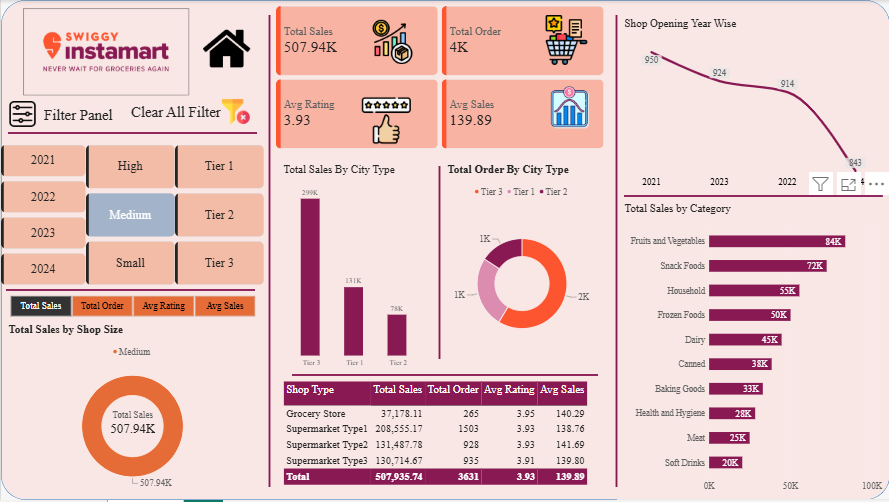

This screenshot's page, from the dashboard's own definition file:
{"tool":"powerbi","page":{"name":"Page 1","canvas":[1920,1080],"ordinal":0},"visuals":[{"type":"shape","box":[0,0,1920.2,1080],"z":0},{"type":"image","box":[47.5,13,358.6,198.7],"z":1000},{"type":"cardVisual","fields":{"Data":["Grocery Shop.Total Sales","Grocery Shop.Total Order","Grocery Shop.Avg Rating","Grocery Shop.Avg Sales"]},"box":[594,13,708.5,308.9],"z":2000},{"type":"donutChart","title":"Total Order By City Type","fields":{"Y":["Grocery Shop.Total Order"],"Category":["Grocery Shop.Shop City Type"]},"box":[948.2,339.1,354.2,470.9],"z":3000},{"type":"image","box":[786.2,41,118.8,99.4],"z":4000},{"type":"image","box":[1181.5,179.3,95,105.8],"z":5000},{"type":"image","box":[1166.4,32.4,110.2,108],"z":6000},{"type":"image","box":[760.3,207.4,144.7,105.8],"z":7000},{"type":"columnChart","title":"Total Sales By City Type","fields":{"Y":["Grocery Shop.Total Sales"],"Category":["Grocery Shop.Shop City Type"]},"box":[594,339.1,341.3,470.9],"z":8000},{"type":"tableEx","fields":{"Values":["Grocery Shop.Shop Type","Grocery Shop.Total Sales","Grocery Shop.Total Order","Grocery Shop.Avg Rating","Grocery Shop.Avg Sales"]},"box":[594,810,708.5,270],"z":9000},{"type":"lineChart","title":"Shop Opening Year Wise","fields":{"Category":["Grocery Shop.Shop Opening Year"],"Y":["CountNonNull(Grocery Shop.Shop Type)"]},"box":[1330.6,23.8,589.7,399.6],"z":10000},{"type":"barChart","fields":{"Y":["Grocery Shop.Total Sales"],"Category":["Grocery Shop.Category"]},"box":[1330.6,423.4,589.7,656.6],"z":11000},{"type":"slicer","fields":{"Values":["Matrix.Matrix"]},"box":[0,637.2,568.1,47.5],"z":12000},{"type":"donutChart","fields":{"Y":["Grocery Shop.Total Sales"],"Category":["Grocery Shop.Shop Size"]},"box":[0,684.7,568.1,395.3],"z":13000},{"type":"cardVisual","fields":{"Data":["Grocery Shop.Total Sales"]},"box":[218.2,864,133.9,101.5],"z":14000},{"type":"advancedSlicerVisual","fields":{"Values":["Grocery Shop.Shop Opening Year"]},"box":[0,313.2,183.6,304.6],"z":15000},{"type":"advancedSlicerVisual","fields":{"Values":["Grocery Shop.Shop Size"]},"box":[183.6,313.2,192.2,304.6],"z":16000},{"type":"advancedSlicerVisual","fields":{"Values":["Grocery Shop.Shop City Type"]},"box":[375.8,313.2,192.2,304.6],"z":17000},{"type":"image","box":[0,218.2,92.9,56.2],"z":18000},{"type":"textbox","box":[92.9,231.1,187.9,47.5],"z":19000},{"type":"textbox","box":[280.8,224.6,209.5,47.5],"z":20000},{"type":"image","box":[477.4,207.4,60.5,67],"z":21000},{"type":"image","box":[436.3,51.8,101.5,105.8],"z":22000},{"type":"shape","box":[15.1,252.7,537.8,69.1],"z":22001},{"type":"shape","box":[628.6,775.4,661,69.1],"z":22002},{"type":"shape","box":[1345.7,388.8,559.4,69.1],"z":22003},{"type":"shape","box":[1289.5,32.4,79.9,1019.5],"z":22004},{"type":"shape","box":[553,32.4,54,1019.5],"z":22005},{"type":"shape","box":[10.8,591.8,537.8,69.1],"z":22006},{"type":"shape","box":[907.2,358.6,79.9,416.9],"z":22007}]}

Visuals, with their boxes in screenshot pixels (x1, y1, x2, y2), scaled from the page's 1920x1080 canvas onto the 889x502 screenshot:
shape: select_region(0, 0, 888, 501)
image: select_region(22, 6, 188, 98)
cardVisual - Grocery Shop.Total Sales x Grocery Shop.Total Order: select_region(275, 6, 603, 150)
"Total Order By City Type" donutChart: select_region(439, 158, 603, 376)
image: select_region(364, 19, 419, 65)
image: select_region(547, 83, 591, 133)
image: select_region(540, 15, 591, 65)
image: select_region(352, 96, 419, 146)
"Total Sales By City Type" columnChart: select_region(275, 158, 433, 376)
tableEx - Grocery Shop.Shop Type x Grocery Shop.Total Sales: select_region(275, 376, 603, 501)
"Shop Opening Year Wise" lineChart: select_region(616, 11, 888, 197)
barChart - Grocery Shop.Total Sales x Grocery Shop.Category: select_region(616, 197, 888, 501)
slicer - Matrix.Matrix: select_region(0, 296, 263, 318)
donutChart - Grocery Shop.Total Sales x Grocery Shop.Shop Size: select_region(0, 318, 263, 501)
cardVisual - Grocery Shop.Total Sales: select_region(101, 402, 163, 449)
advancedSlicerVisual - Grocery Shop.Shop Opening Year: select_region(0, 146, 85, 287)
advancedSlicerVisual - Grocery Shop.Shop Size: select_region(85, 146, 174, 287)
advancedSlicerVisual - Grocery Shop.Shop City Type: select_region(174, 146, 263, 287)
image: select_region(0, 101, 43, 128)
textbox: select_region(43, 107, 130, 129)
textbox: select_region(130, 104, 227, 126)
image: select_region(221, 96, 249, 128)
image: select_region(202, 24, 249, 73)
shape: select_region(7, 117, 256, 150)
shape: select_region(291, 360, 597, 393)
shape: select_region(623, 181, 882, 213)
shape: select_region(597, 15, 634, 489)
shape: select_region(256, 15, 281, 489)
shape: select_region(5, 275, 254, 307)
shape: select_region(420, 167, 457, 360)
